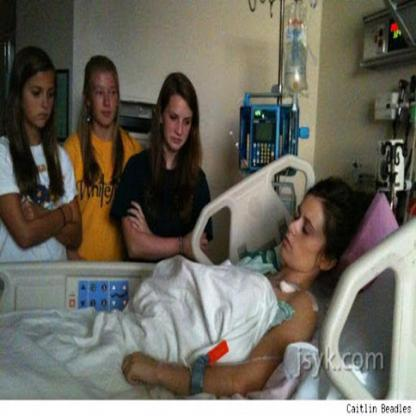face: (277, 195, 330, 267), (27, 68, 56, 132), (167, 97, 190, 155), (96, 71, 117, 124)
